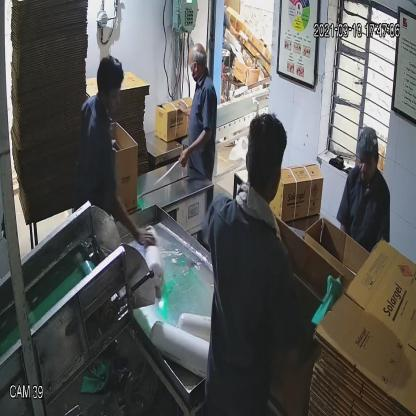no_glove: (102, 175, 158, 255), (175, 129, 216, 177)
